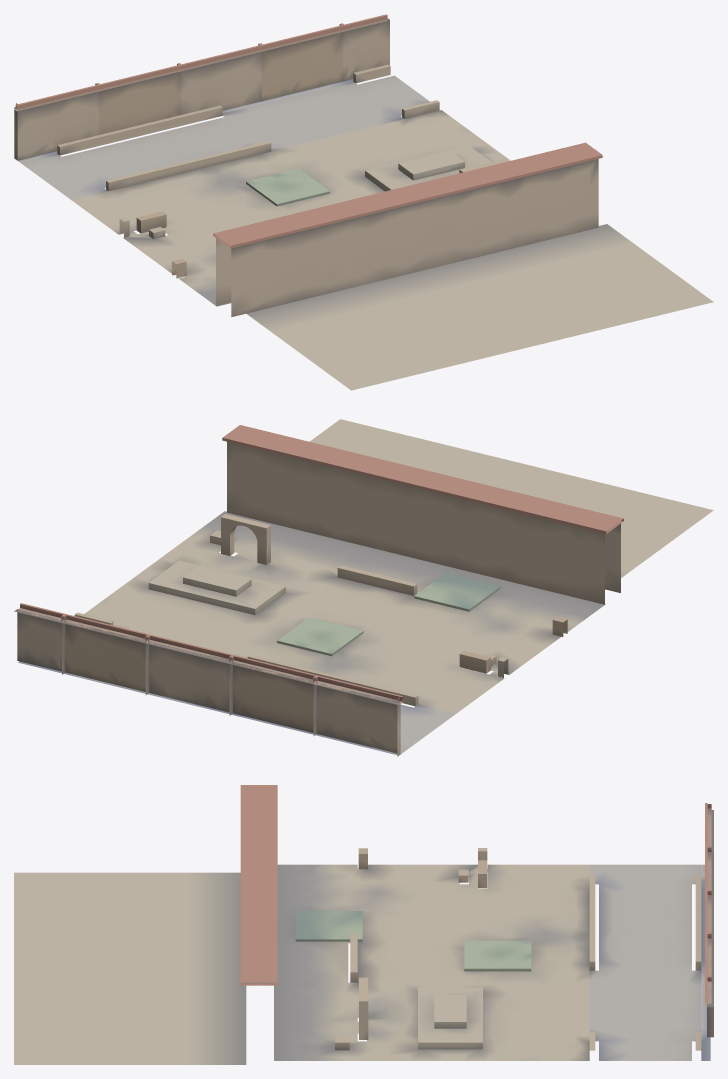
3 views of the same model, one above another, from view 1: azimuth 30°, elevation 25°; view 2: azimuth 150°, elevation 25°; view 3: azimuth 270°, elevation 25° (orthographic). The views are drawn at different scales.
Visible parts, largest first — view 1: t; view 2: t; view 3: t.
Boxes of the visible parts, x1,y1,x2,y2 form: t: (14, 14, 713, 390); t: (14, 419, 713, 756); t: (14, 785, 713, 1064).
Bounding box in the file's own units: 51.27 × 9.35 × 75.37.
